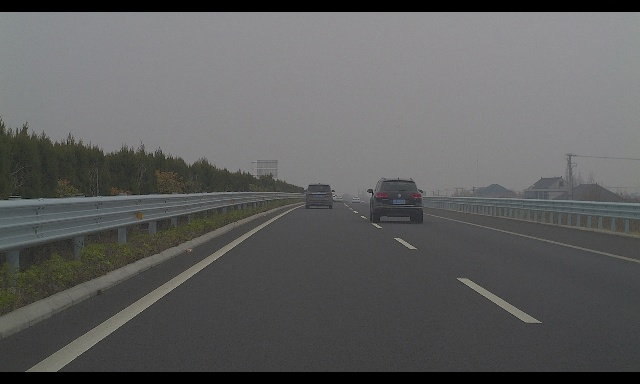car: (367, 177, 424, 223), (304, 183, 335, 209), (335, 196, 343, 202), (352, 197, 360, 203)
